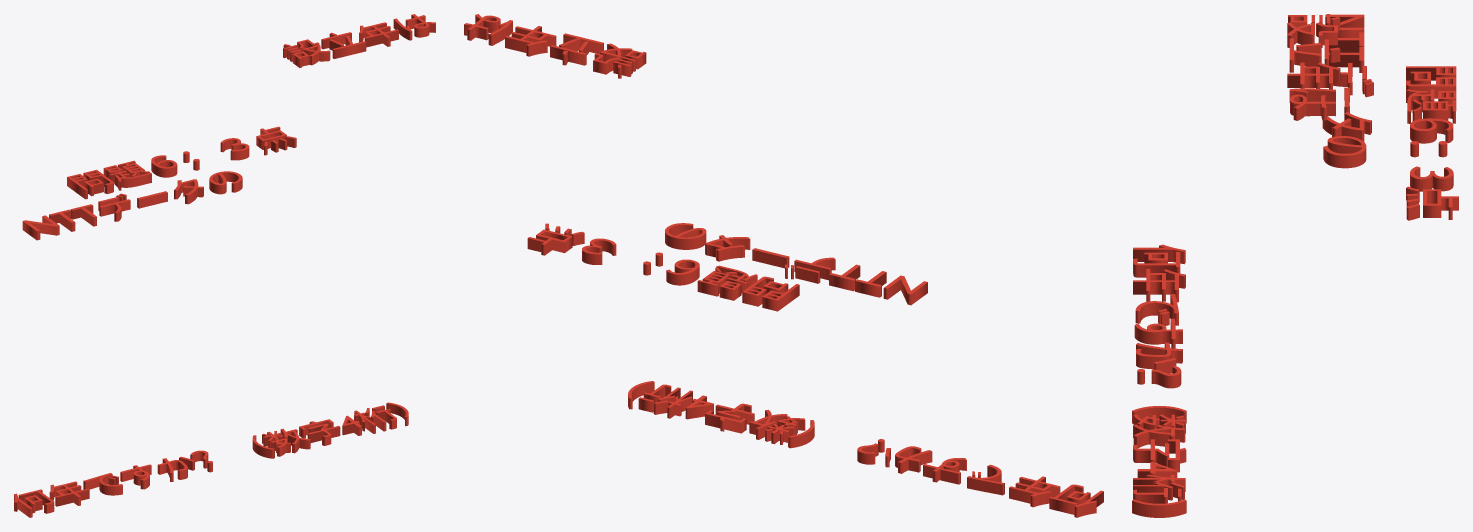
The picture shows the model from 3 angles, left to right: view 1: azimuth 30°, elevation 25°; view 2: azimuth 150°, elevation 25°; view 3: azimuth 270°, elevation 25°; orthographic projection. The views are drawn at different scales.
Parts seen in each view (by area): view 1: テキスト.002, テキスト.004, テキスト.001, テキスト.005; view 2: テキスト.002, テキスト.004, テキスト.001, テキスト.005; view 3: テキスト.002, テキスト.004, テキスト.005, テキスト.001.
Part boxes in pixels (<box>): テキスト.002: <box>14,402,408,517</box>; テキスト.004: <box>67,126,296,199</box>; テキスト.001: <box>22,171,242,240</box>; テキスト.005: <box>283,14,435,67</box>; テキスト.002: <box>628,381,1103,517</box>; テキスト.004: <box>527,223,799,311</box>; テキスト.001: <box>665,223,927,305</box>; テキスト.005: <box>464,14,646,78</box>; テキスト.002: <box>1132,244,1186,517</box>; テキスト.004: <box>1406,66,1458,220</box>; テキスト.005: <box>1287,14,1340,120</box>; テキスト.001: <box>1322,14,1373,168</box>.
Size of the model in its own units: 13.01 by 8.92 by 5.7.
